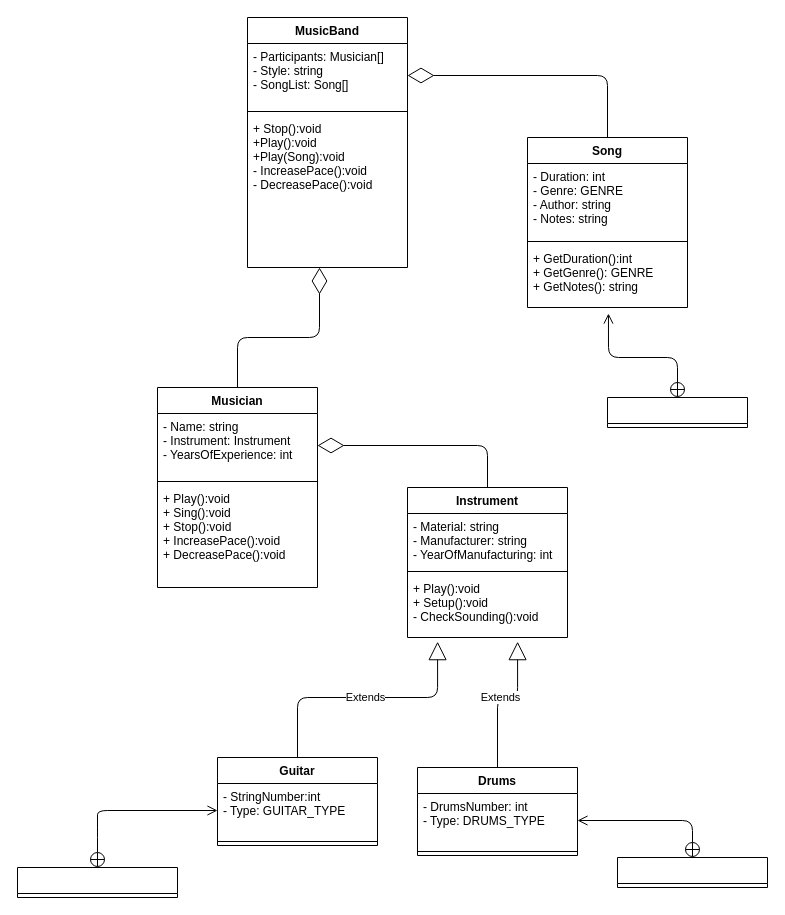
Some shapes in this 785 by 915 pixel diagram are drawn without their labels. Each missing label, with the centre of its shape:
Enum DRUMS_TYPE: the point at 692,872
Enum GENRE: the point at 677,412
Enum GUILTER_TYPE: the point at 97,882
